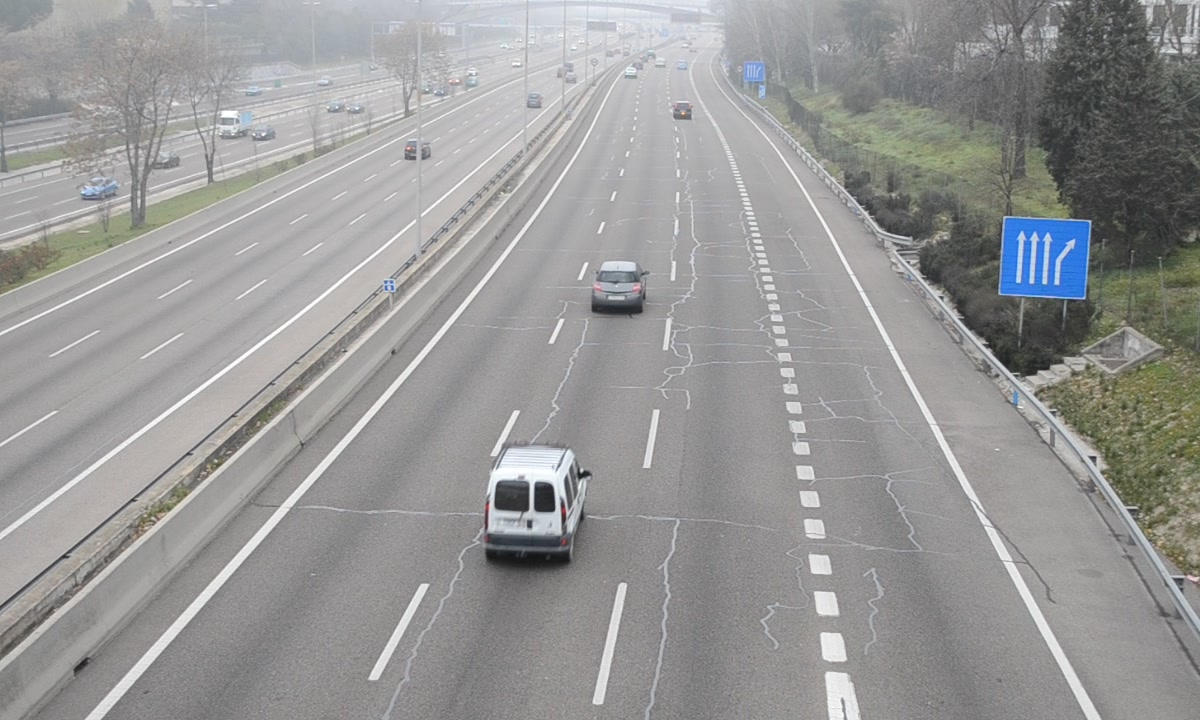car: (591, 259, 644, 311)
van: (485, 447, 584, 562)
